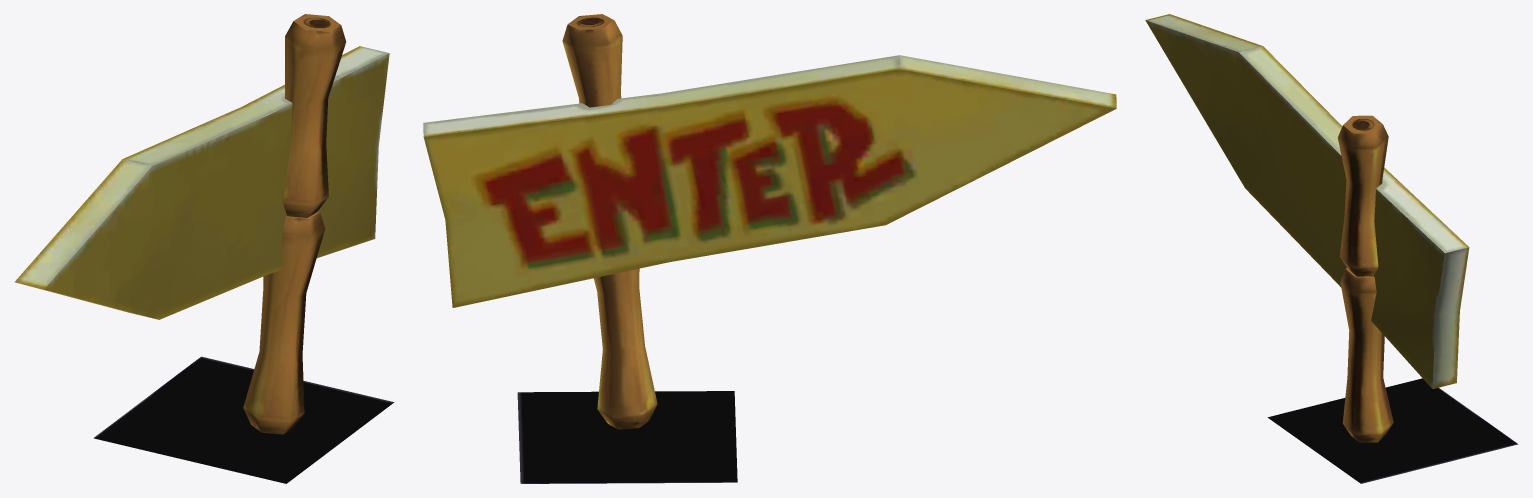
File: object_2.007_lev3.glb
3 renders of one model, left to right at view 1: azimuth 30°, elevation 25°; view 2: azimuth 150°, elevation 25°; view 3: azimuth 270°, elevation 25°, orthographic. The views are drawn at different scales.
Parts seen in each view (by area): view 1: object_2.007_lev3; view 2: object_2.007_lev3; view 3: object_2.007_lev3.
Part boxes in pixels (x1,y1,x2,y2): object_2.007_lev3: (14, 14, 394, 483); object_2.007_lev3: (423, 14, 1116, 483); object_2.007_lev3: (1145, 14, 1518, 483).
Bounding box in the file's own units: 7.3 × 5.15 × 5.26.
Materials: 1 (1 with a texture image).
